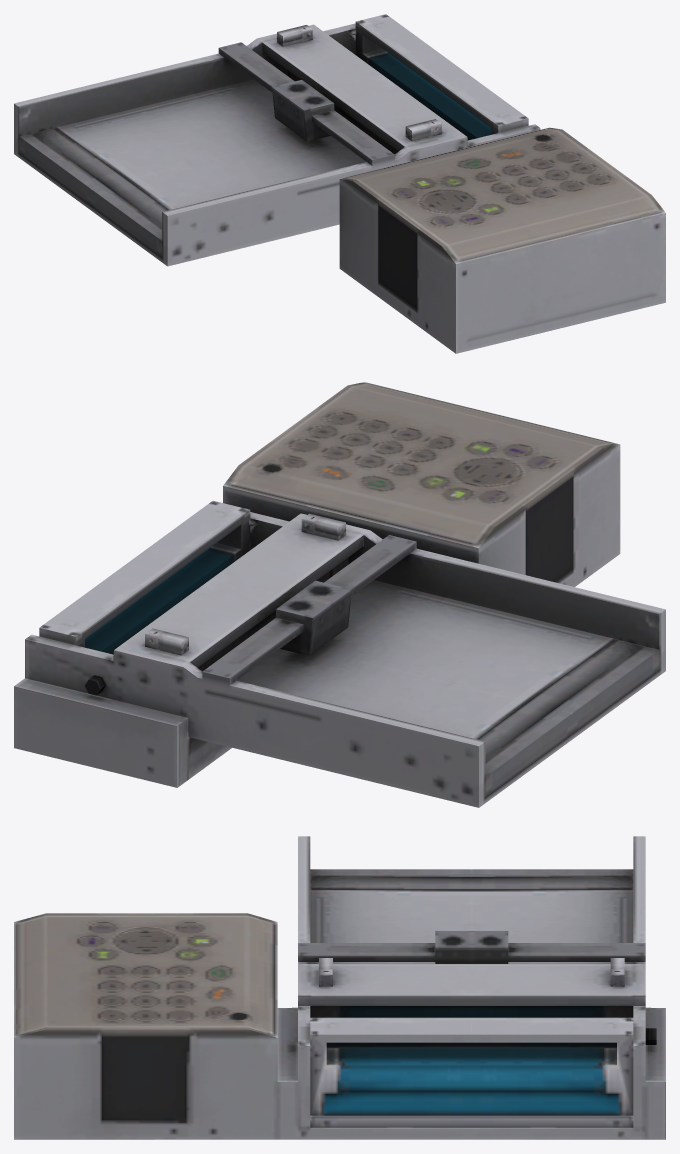
The model's file is TechTester01.FBX.
The picture shows the model from 3 angles, top to bottom: view 1: azimuth 30°, elevation 25°; view 2: azimuth 150°, elevation 25°; view 3: azimuth 270°, elevation 25°; orthographic projection. The views are drawn at different scales.
Visible parts, largest first — view 1: TechTester01; view 2: TechTester01; view 3: TechTester01.
Boxes of the visible parts, x1,y1,x2,y2 form: TechTester01: (14,14,665,353); TechTester01: (14,382,665,807); TechTester01: (14,836,665,1139).
Size of the model in its own units: 0.5911 by 0.1548 by 0.7911.
